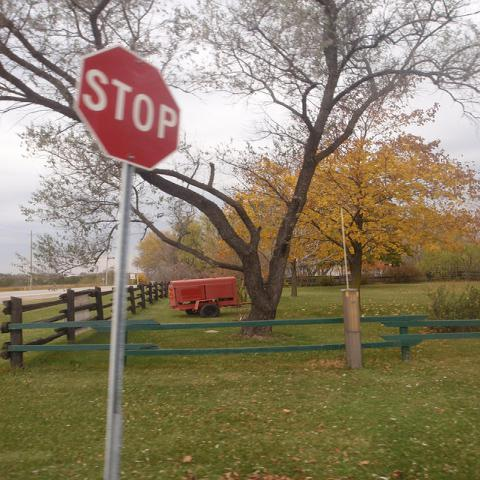truck: (168, 277, 252, 318)
